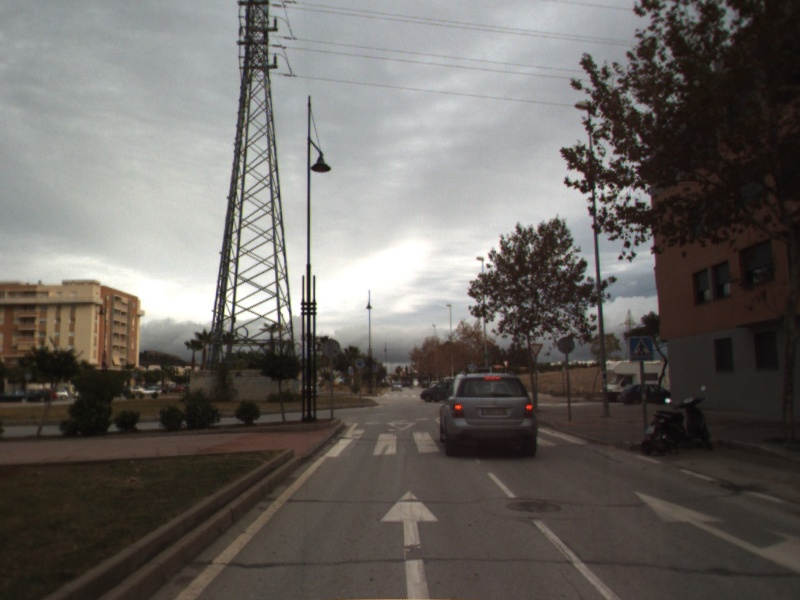STRAIGHT: (377, 488, 442, 600)
STRAIGHT_RIGHT: (632, 488, 800, 575)
